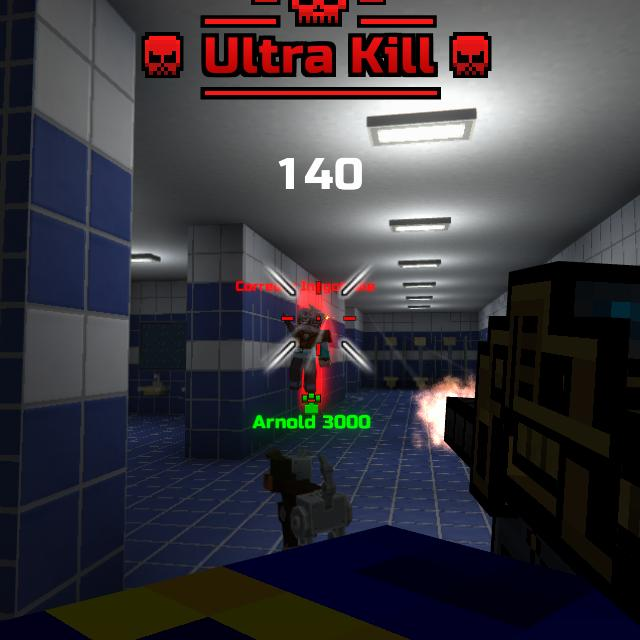Enemy: (296, 310, 334, 402)
